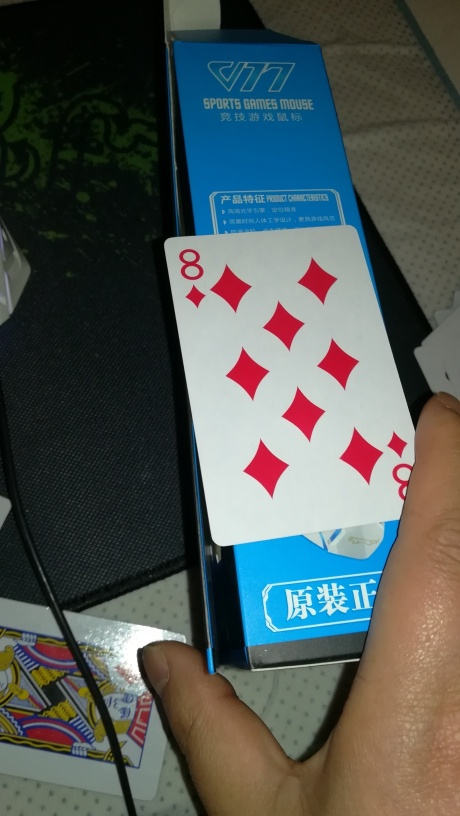fk 8: (162, 225, 419, 548)
